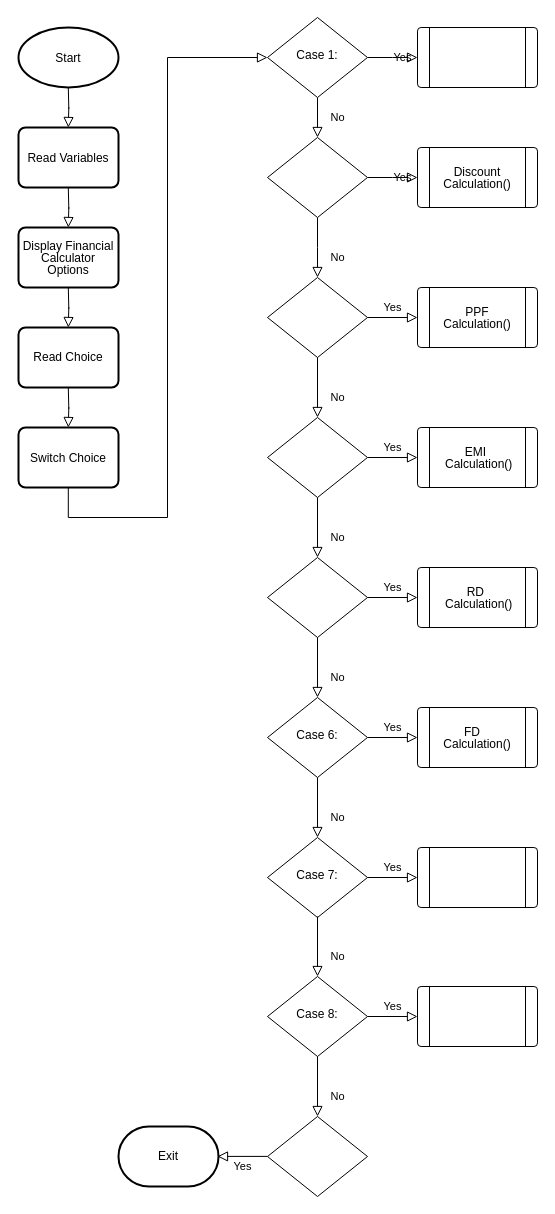
The diagram is 555 pixels wide and 1214 high, and some of its shapes have lost their labels. The box of each missing label's shape, as (x1, y1, x2, y2) in pixels:
CAGR Calculation(): (416, 26, 538, 88)
Case 2:: (266, 136, 368, 218)
Case 3:: (266, 276, 368, 358)
Case 4:: (266, 416, 368, 498)
Case 5:: (266, 556, 368, 638)
Default:: (266, 1116, 368, 1196)
LumpSum Calculation(): (416, 846, 538, 908)
SIP Calculation(): (416, 986, 538, 1046)
